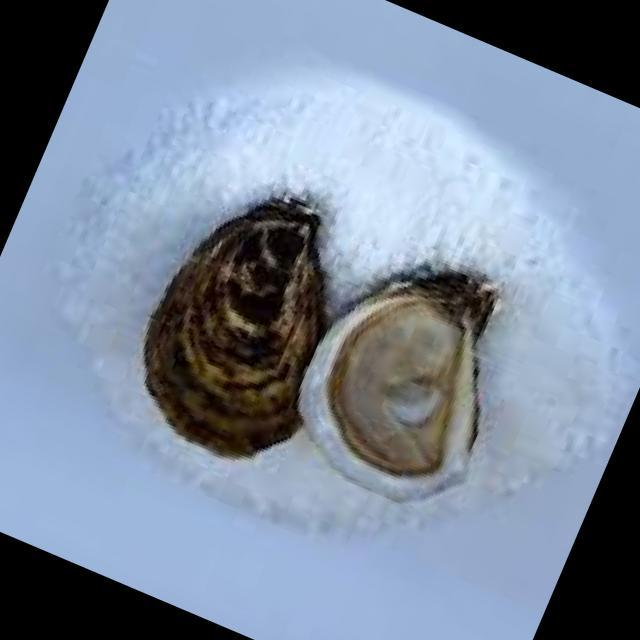Oyster- Indeterminate: (146, 199, 325, 457)
Oyster-Open: (300, 266, 498, 501)
